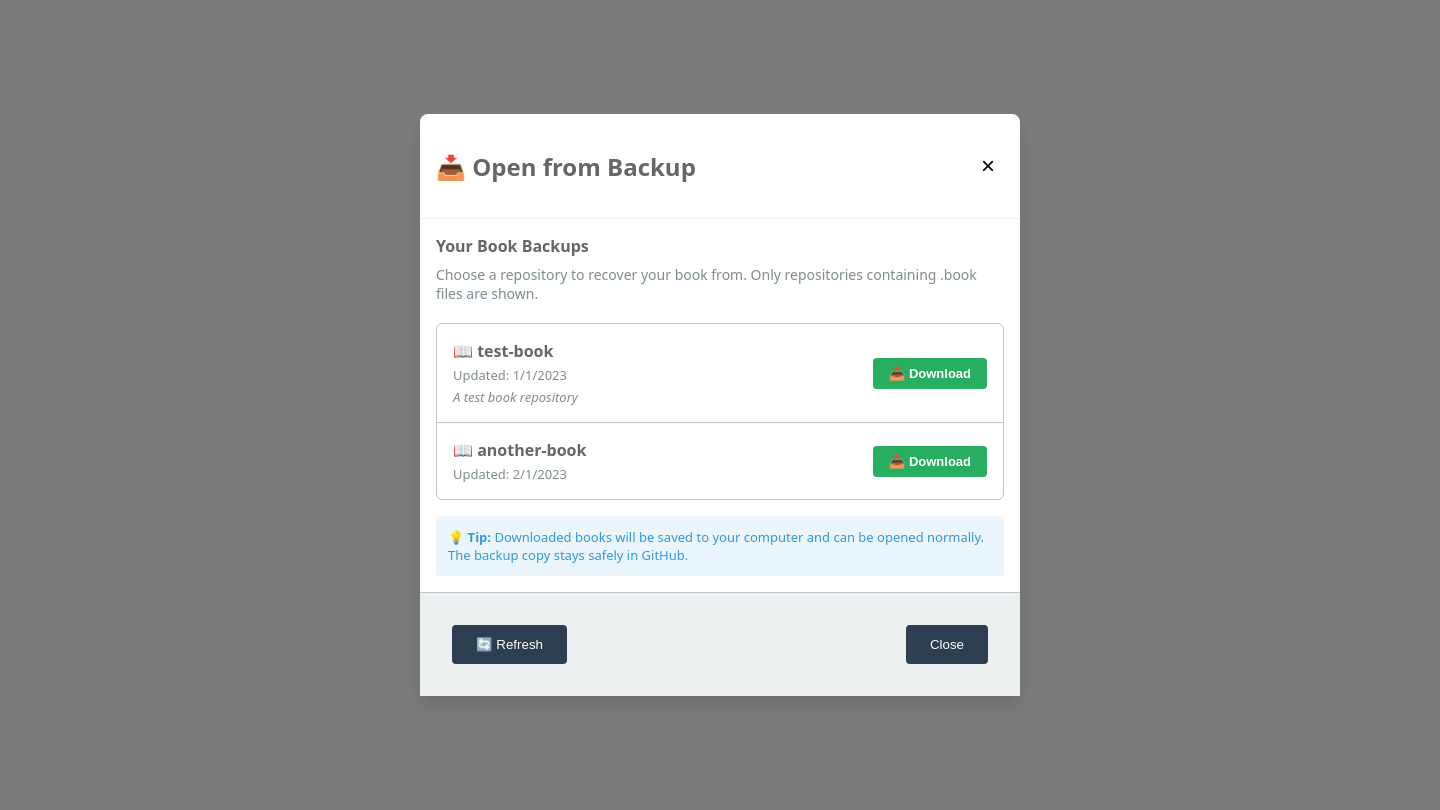
Test: BackupRecovery › when authenticated › downloading books › handles download failure
Expected: the heading "📖 test-book" is shown, x1=453 y1=340 x2=554 y2=362
Click the button "📥 Download" in the row of "1/1/2023".
click(930, 373)  # box x1=873 y1=358 x2=987 y2=389
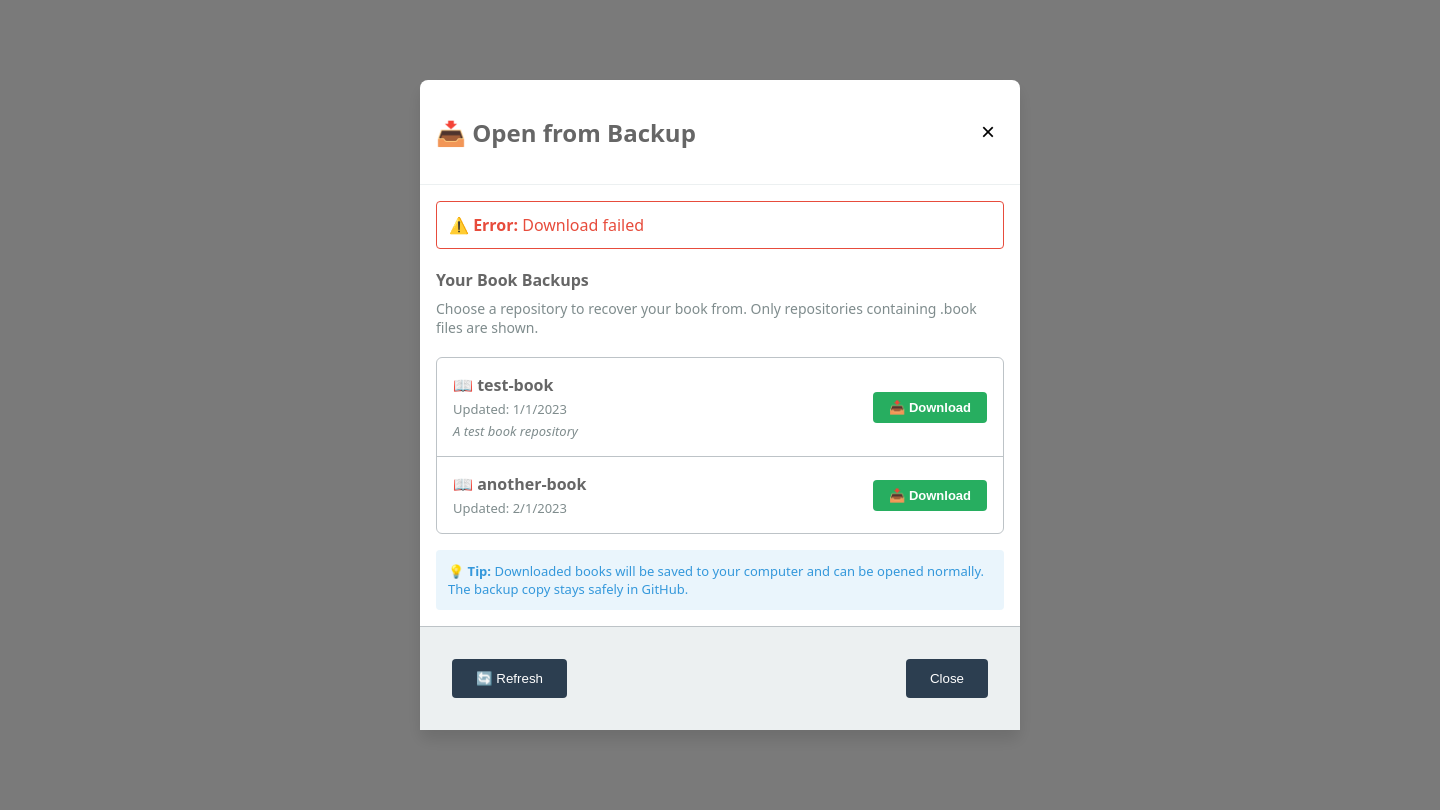
Now the text "⚠️ Error:" is shown, box x1=449 y1=214 x2=518 y2=236
Now the text "Download failed" is shown, box x1=522 y1=214 x2=644 y2=236
